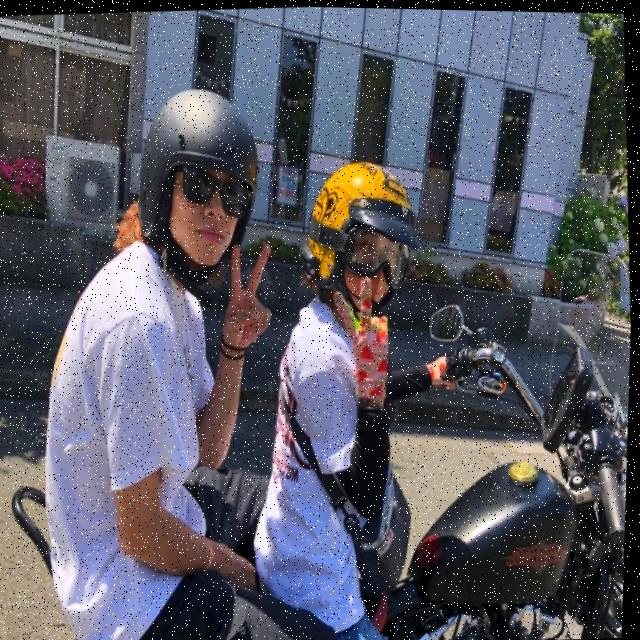helmet: (128, 79, 271, 292), (292, 151, 436, 324)
